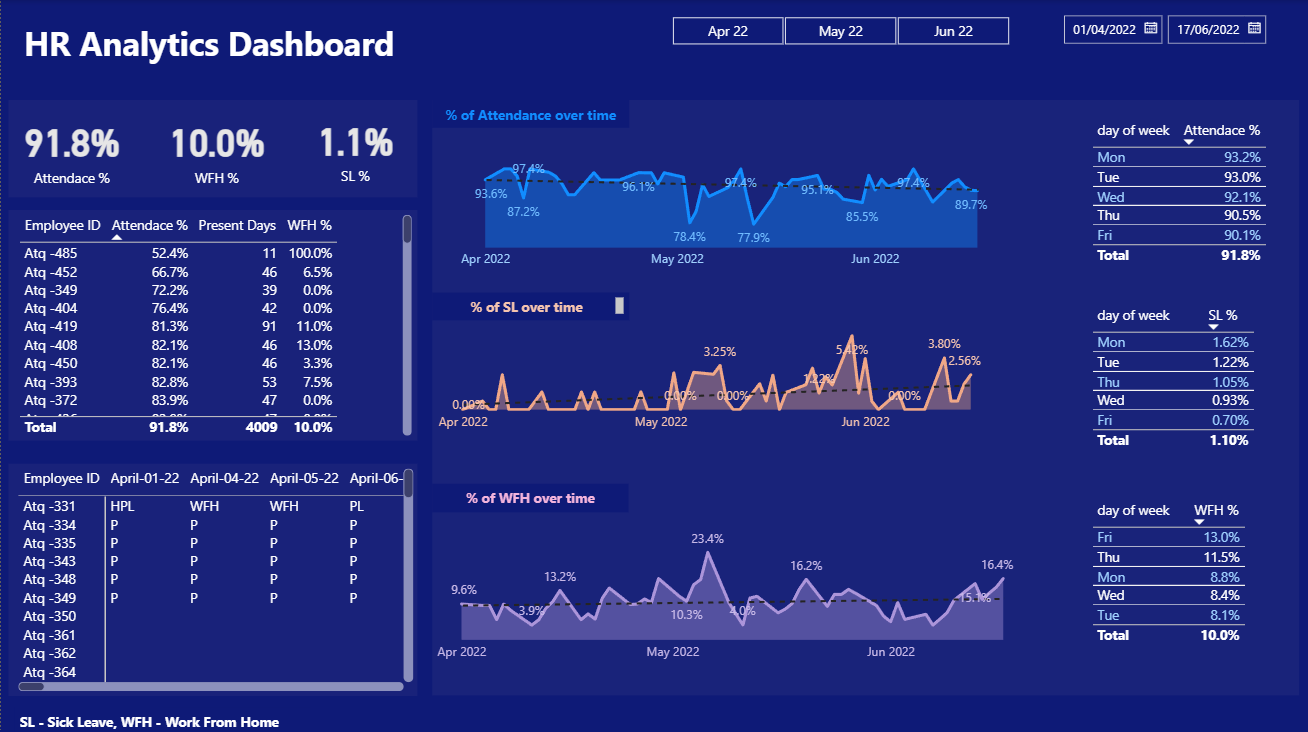

The page's visual inventory and layout, read from the dashboard file:
{"tool":"powerbi","page":{"name":"Presence Insights","canvas":[1280,720],"ordinal":0},"visuals":[{"type":"textbox","box":[7.8,205.6,399.9,225.5],"z":0},{"type":"textbox","box":[7.8,453.3,399.8,227.6],"z":1000},{"type":"textbox","box":[422.3,97.9,848.1,582.3],"z":2000},{"type":"textbox","box":[7.8,98,399.9,95.4],"z":3000},{"type":"tableEx","fields":{"Values":["Final Data.Employee ID","Measures (2).Attendace %","Measures (2).Present Days","Measures (2).WFH %"]},"box":[12.6,205.2,394.9,225.7],"z":4000},{"type":"slicer","fields":{"Values":["Final Data.Date"]},"box":[1027.3,5.2,252.7,46.3],"z":5000},{"type":"slicer","fields":{"Values":["Final Data.MMM YY"]},"box":[631,9.8,379.1,35.5],"z":6000},{"type":"areaChart","fields":{"Category":["Final Data.MMM YY","Final Data.Date"],"Y":["Measures (2).WFH %"]},"box":[420.7,502.3,589,153.5],"z":7000},{"type":"areaChart","fields":{"Category":["Final Data.WeekNo","Final Data.Date"],"Y":["Measures (2).Attendace %"]},"box":[443.9,144.3,540.5,127.2],"z":8000},{"type":"card","fields":{"Values":["Measures (2).Attendace %"]},"box":[7.8,98,124,96.3],"z":9000},{"type":"card","fields":{"Values":["Measures (2).WFH %"]},"box":[141.4,98,138.8,96.3],"z":10000},{"type":"areaChart","fields":{"Category":["Final Data.MMM YY","Final Data.Date"],"Y":["Measures (2).SL %"]},"box":[422.5,307.1,556,124],"z":11000},{"type":"card","fields":{"Values":["Measures (2).SL %"]},"box":[286.3,97.2,121.4,96.3],"z":13000},{"type":"textbox","box":[0,15.9,407.2,70.9],"z":14000},{"type":"textbox","box":[422.4,98.2,192.5,27.5],"z":15000},{"type":"textbox","box":[422.5,286.3,192.6,26.9],"z":16000},{"type":"textbox","box":[421.9,473.2,192,28.1],"z":17000},{"type":"pivotTable","fields":{"Rows":["Final Data.Employee ID"],"Columns":["Final Data.Date"],"Values":["Min(Final Data.Value)"]},"box":[11.7,453.3,395.9,227.6],"z":18000},{"type":"textbox","box":[13.6,691.6,289.8,28.2],"z":19000},{"type":"tableEx","fields":{"Values":["Final Data.day of week","Measures (2).Attendace %"]},"box":[1061.4,112.5,209.1,173.6],"z":20000},{"type":"tableEx","fields":{"Values":["Final Data.day of week","Measures (2).SL %"]},"box":[1061.4,293.5,192,167.5],"z":21000},{"type":"tableEx","fields":{"Values":["Final Data.day of week","Measures (2).WFH %"]},"box":[1061.4,484.2,192,167.5],"z":22000}]}

Visuals, with their boxes in screenshot pixels (x1, y1, x2, y2), scaled from the page's 1280x720 canvas onto the 1308x732 screenshot:
textbox: pyautogui.locateOnScreen(8, 209, 417, 438)
textbox: pyautogui.locateOnScreen(8, 461, 417, 692)
textbox: pyautogui.locateOnScreen(432, 100, 1298, 692)
textbox: pyautogui.locateOnScreen(8, 100, 417, 197)
tableEx - Final Data.Employee ID x Measures (2).Attendace %: pyautogui.locateOnScreen(13, 209, 416, 438)
slicer - Final Data.Date: pyautogui.locateOnScreen(1050, 5, 1307, 52)
slicer - Final Data.MMM YY: pyautogui.locateOnScreen(645, 10, 1032, 46)
areaChart - Final Data.MMM YY x Final Data.Date: pyautogui.locateOnScreen(430, 511, 1032, 667)
areaChart - Final Data.WeekNo x Final Data.Date: pyautogui.locateOnScreen(454, 147, 1006, 276)
card - Measures (2).Attendace %: pyautogui.locateOnScreen(8, 100, 135, 198)
card - Measures (2).WFH %: pyautogui.locateOnScreen(144, 100, 286, 198)
areaChart - Final Data.MMM YY x Final Data.Date: pyautogui.locateOnScreen(432, 312, 1000, 438)
card - Measures (2).SL %: pyautogui.locateOnScreen(293, 99, 417, 197)
textbox: pyautogui.locateOnScreen(0, 16, 416, 88)
textbox: pyautogui.locateOnScreen(432, 100, 628, 128)
textbox: pyautogui.locateOnScreen(432, 291, 629, 318)
textbox: pyautogui.locateOnScreen(431, 481, 627, 510)
pivotTable - Final Data.Employee ID x Final Data.Date: pyautogui.locateOnScreen(12, 461, 417, 692)
textbox: pyautogui.locateOnScreen(14, 703, 310, 731)
tableEx - Final Data.day of week x Measures (2).Attendace %: pyautogui.locateOnScreen(1085, 114, 1298, 291)
tableEx - Final Data.day of week x Measures (2).SL %: pyautogui.locateOnScreen(1085, 298, 1281, 469)
tableEx - Final Data.day of week x Measures (2).WFH %: pyautogui.locateOnScreen(1085, 492, 1281, 663)
